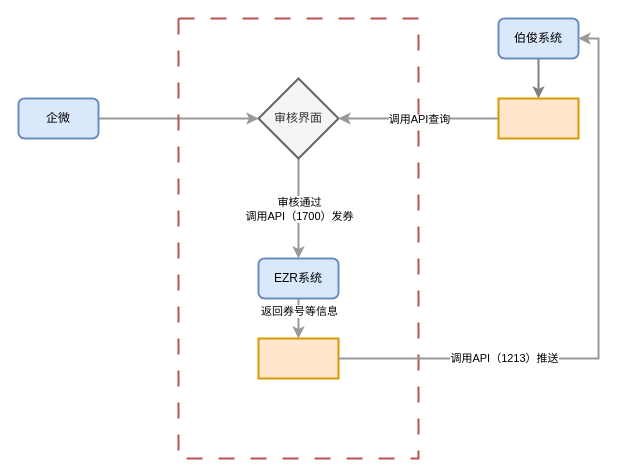
Image size: 624x476. Some labels were removed from this diagram. The box of each missing label's shape, as (x1, y1, x2, y2) in pixels:
信息: (257, 337, 339, 379)
充值单: (497, 97, 579, 139)
